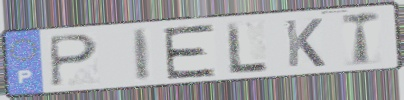E: (160, 22, 218, 81)
I: (131, 27, 153, 83)
K: (282, 17, 328, 69)
L: (224, 21, 271, 76)
P: (46, 33, 101, 89)
T: (339, 10, 382, 68)
